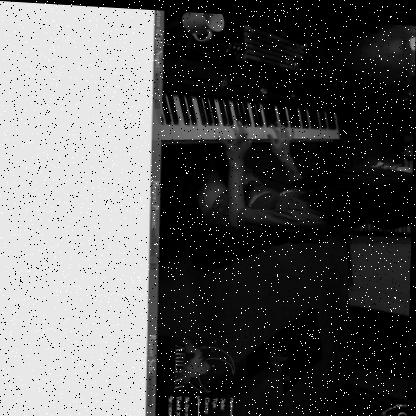streamer: (174, 111, 414, 245)
